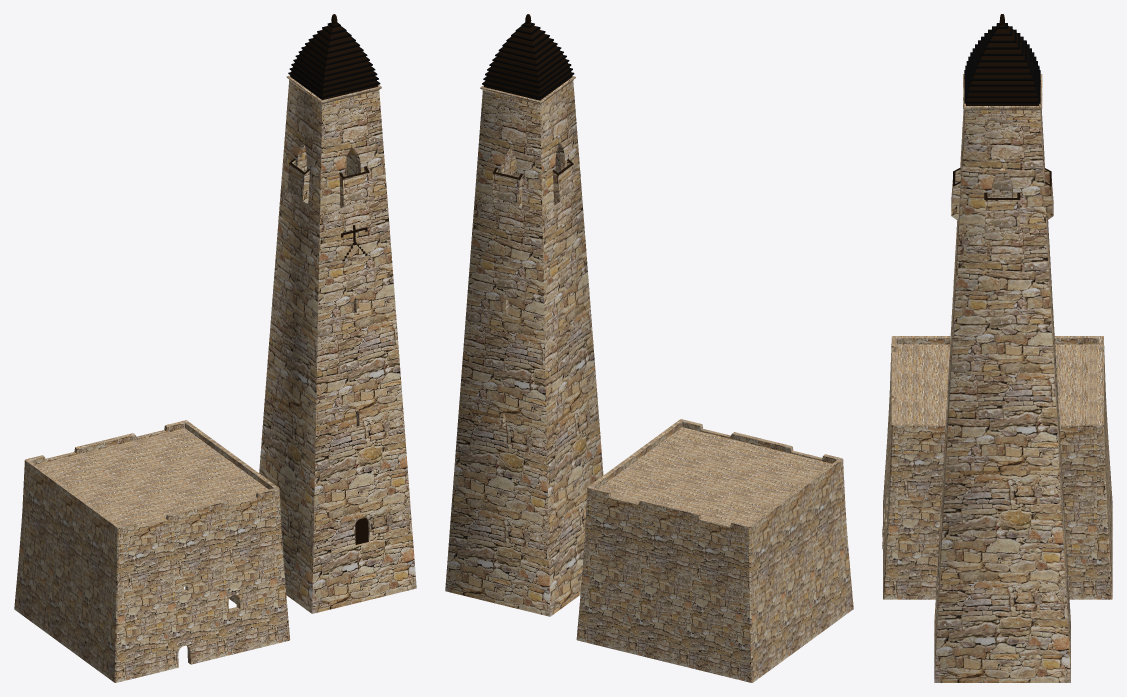
Rendered from Bau.obj.
3 views of the same model, side by side, from view 1: azimuth 30°, elevation 25°; view 2: azimuth 150°, elevation 25°; view 3: azimuth 270°, elevation 25° (orthographic). The views are drawn at different scales.
Visible parts, largest first — view 1: Bau, husam; view 2: Bau, husam; view 3: Bau, husam.
Boxes of the visible parts, x1,y1,x2,y2 form: Bau: (259, 14, 416, 613); husam: (14, 420, 290, 682); Bau: (445, 14, 603, 616); husam: (576, 419, 853, 682); Bau: (934, 14, 1070, 682); husam: (882, 336, 1112, 599).
Size of what is drawn, in the model's own units: 18575 by 30944 by 10087.
